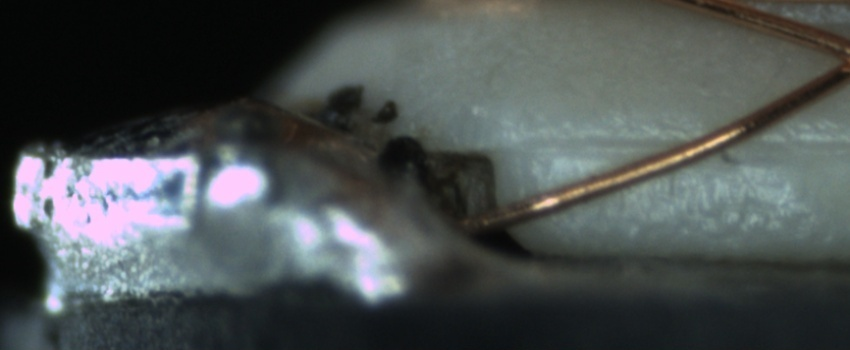CL: (806, 27, 849, 93)
DL: (524, 112, 844, 176)
